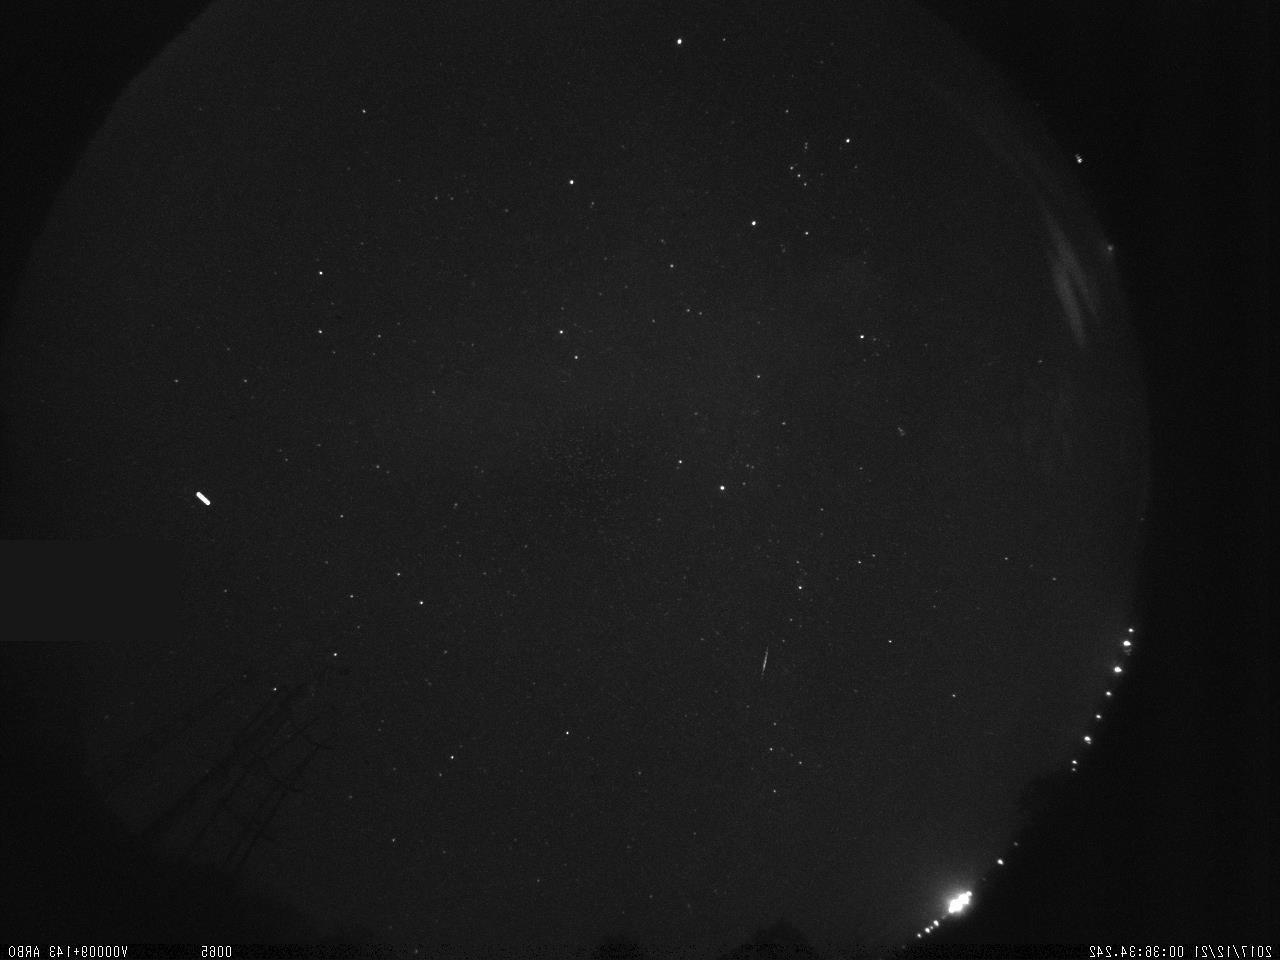meteor: (750, 641, 778, 681)
